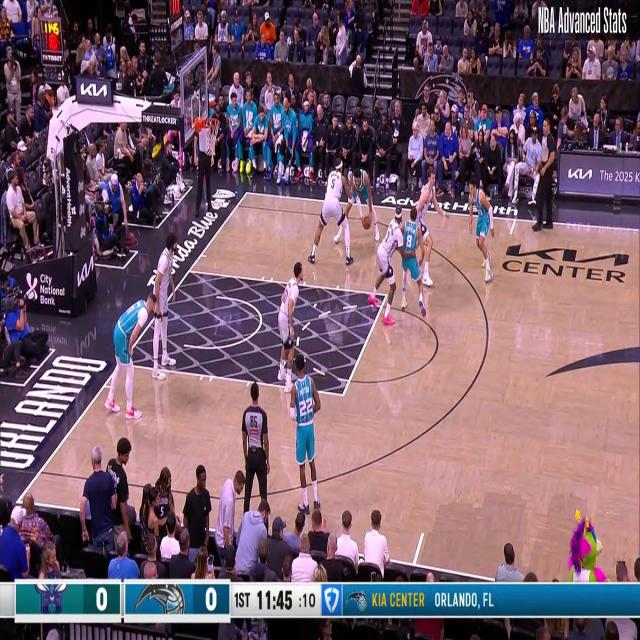ball: (361, 208, 372, 233)
judge: (237, 379, 270, 517), (533, 119, 556, 232)
player: (106, 287, 153, 429), (308, 160, 355, 272), (292, 356, 323, 512), (376, 207, 416, 323), (152, 234, 178, 377), (399, 198, 428, 326), (465, 177, 497, 283), (411, 168, 438, 290), (342, 160, 376, 250), (276, 266, 300, 382)
